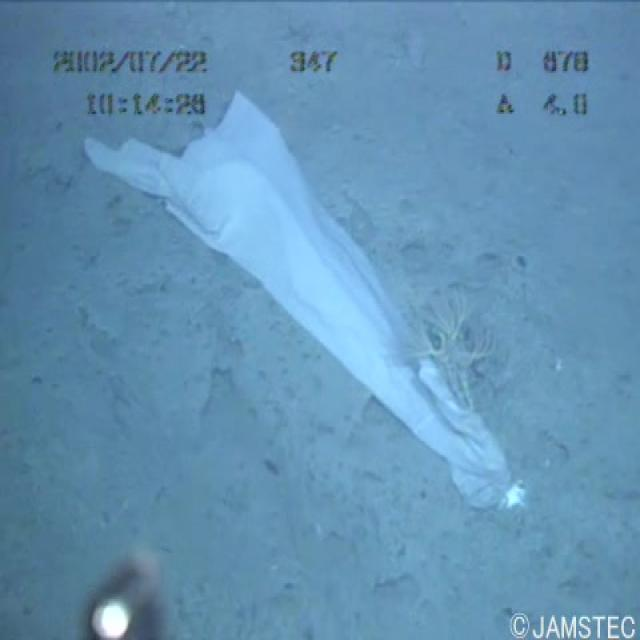plastic: (56, 85, 545, 523)
